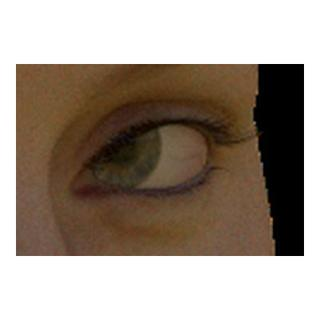pupil: (104, 130, 135, 161)
